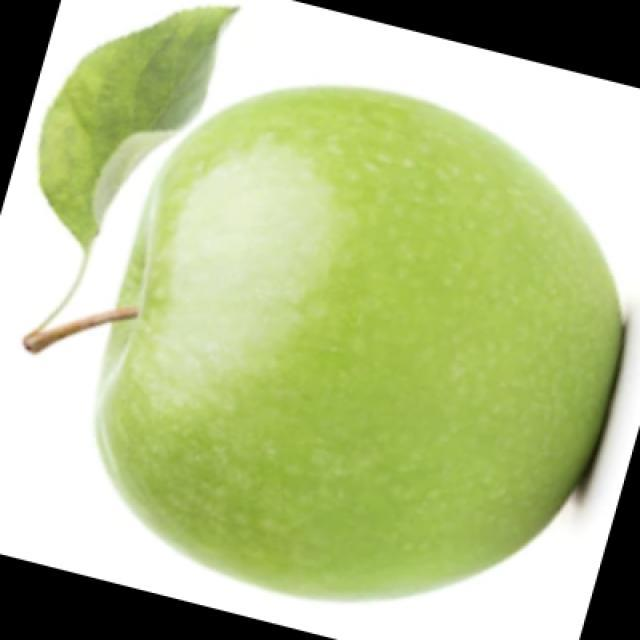Fresh Apple: (146, 103, 611, 640)
